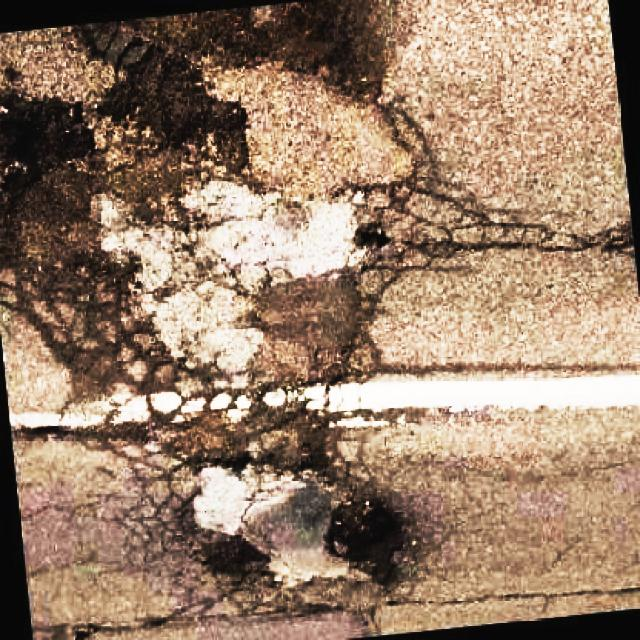pothole: (77, 0, 388, 186), (0, 75, 95, 199), (314, 488, 409, 597), (180, 520, 285, 588)
